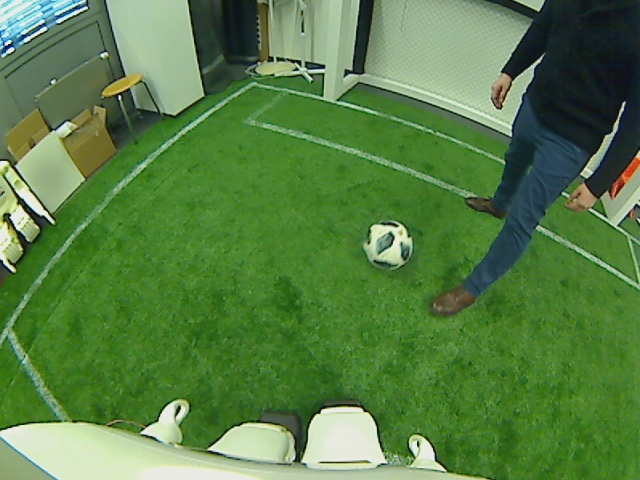ball: (363, 217, 414, 272)
